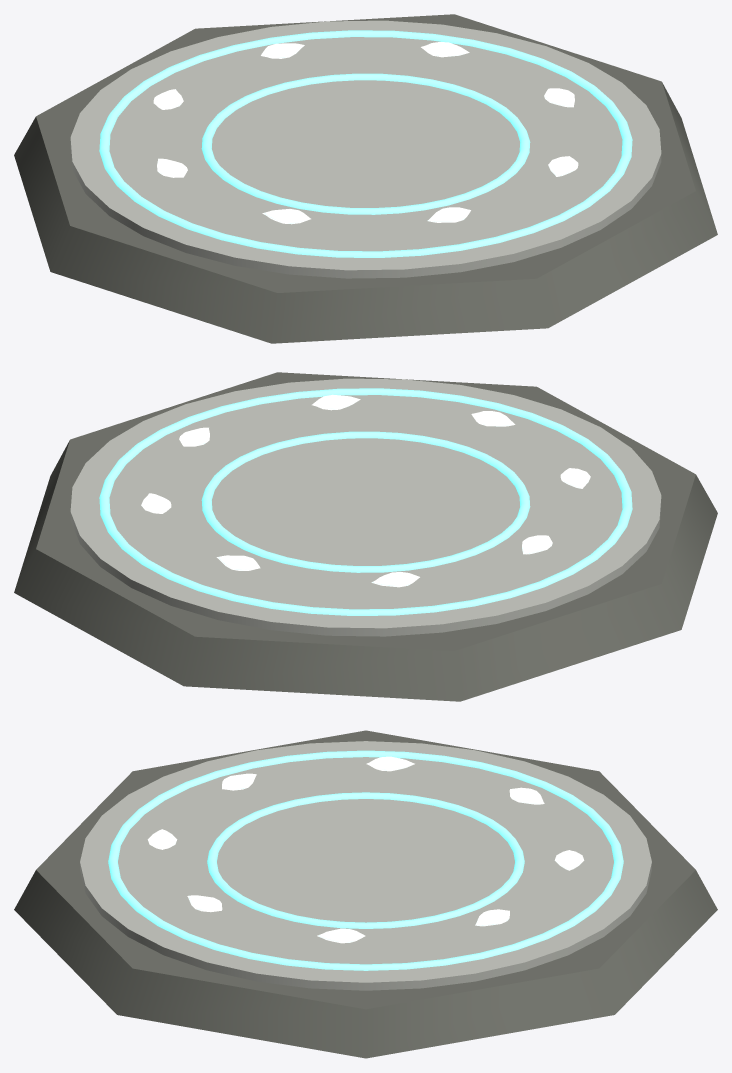
File: SpawnPad.glb
The picture shows the model from 3 angles, top to bottom: view 1: azimuth 30°, elevation 25°; view 2: azimuth 150°, elevation 25°; view 3: azimuth 270°, elevation 25°; orthographic projection. The views are drawn at different scales.
Parts seen in each view (by area): view 1: Body, Glow, HoverRune; view 2: Body, Glow, HoverRune; view 3: Body, Glow, HoverRune.
Part boxes in pixels (x1,y1,x2,y2): Body: (14, 14, 717, 343); Glow: (99, 30, 632, 257); HoverRune: (153, 42, 578, 224); Body: (14, 372, 717, 701); Glow: (99, 388, 632, 615); HoverRune: (141, 394, 590, 587); Body: (14, 730, 717, 1058); Glow: (108, 750, 623, 970); HoverRune: (147, 756, 584, 943).
Size of the model in its own units: 6.4 by 0.64 by 6.4.
Materials: 3 (1 with a texture image).
